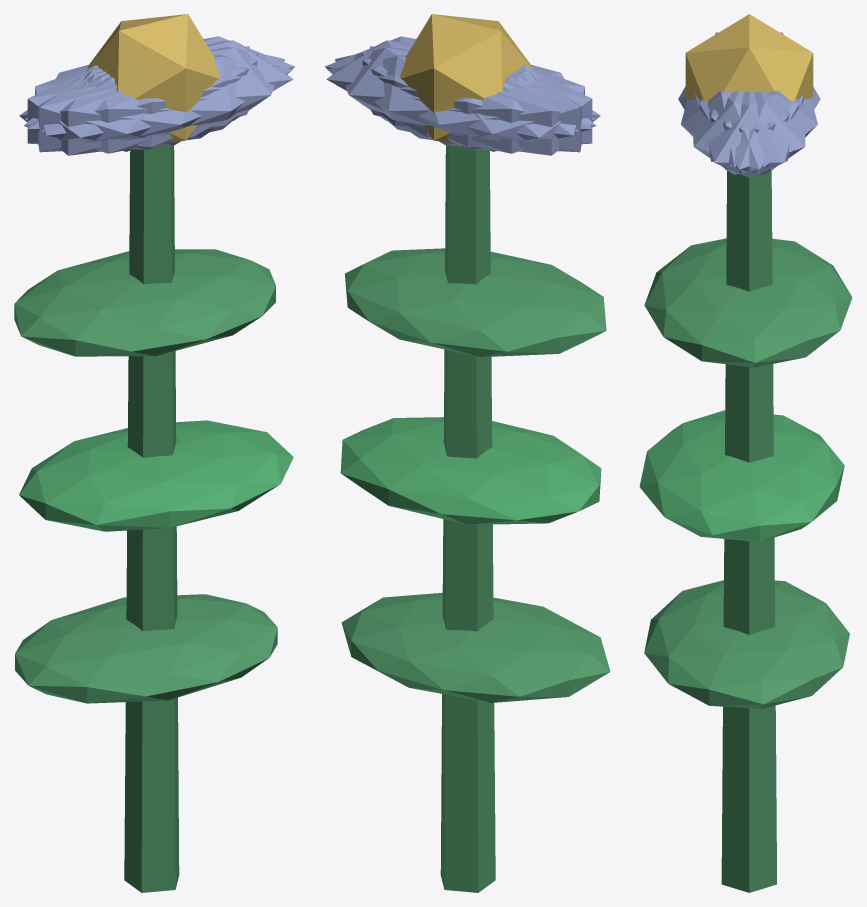
File: senna-alata.glb
3 views of the same model, side by side, from view 1: azimuth 30°, elevation 25°; view 2: azimuth 150°, elevation 25°; view 3: azimuth 270°, elevation 25° (orthographic).
Parts seen in each view (by area): view 1: stem, leaf1, leaf2, leaf0, center, petal1, petal6, petal2, petal5, petal7, petal0, petal4 (+2 smaller); view 2: stem, leaf2, leaf0, leaf1, center, petal8, petal3, petal7, petal4, petal2, petal0, petal5 (+2 smaller); view 3: stem, leaf2, leaf1, leaf0, center, petal0, petal4, petal5, petal1, petal8.
Part boxes in pixels (box(x1,y1,x2,y2)): stem: box(124, 145, 179, 892); leaf1: box(19, 420, 293, 531); leaf2: box(14, 249, 275, 356); leaf0: box(15, 594, 277, 703); center: box(87, 14, 219, 142); petal1: box(23, 55, 292, 153); petal6: box(19, 67, 213, 155); petal2: box(38, 46, 249, 152); petal5: box(41, 47, 284, 146); petal7: box(27, 52, 257, 149); petal0: box(87, 40, 293, 137); petal4: box(24, 36, 295, 129); stem: box(440, 145, 495, 892); leaf2: box(345, 248, 606, 357); leaf0: box(341, 592, 610, 702); leaf1: box(340, 417, 601, 524); center: box(400, 14, 532, 142); petal8: box(327, 55, 596, 153); petal3: box(406, 67, 600, 155); petal7: box(370, 46, 581, 152); petal4: box(335, 47, 578, 146); petal2: box(362, 52, 592, 149); petal0: box(326, 40, 532, 137); petal5: box(324, 36, 595, 129); stem: box(721, 170, 776, 892); leaf2: box(644, 238, 852, 367); leaf1: box(639, 410, 844, 541); leaf0: box(644, 580, 849, 708); center: box(685, 14, 813, 101); petal0: box(694, 91, 803, 177); petal4: box(699, 91, 805, 174); petal5: box(693, 91, 799, 174); petal1: box(681, 90, 789, 167); petal8: box(709, 90, 817, 167).
Bounding box in the file's own units: 0.1496 × 0.4498 × 0.1022.
